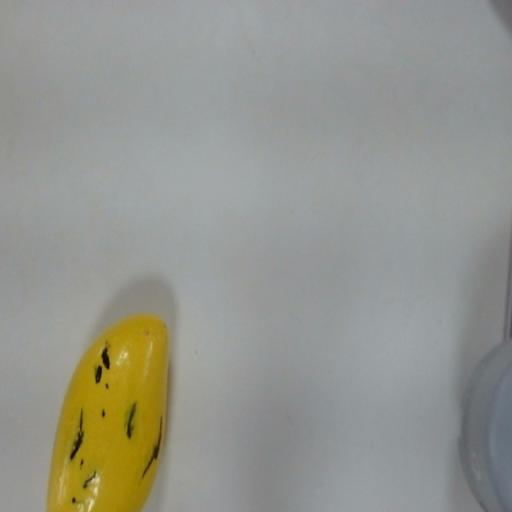Defective: (46, 311, 170, 511)
